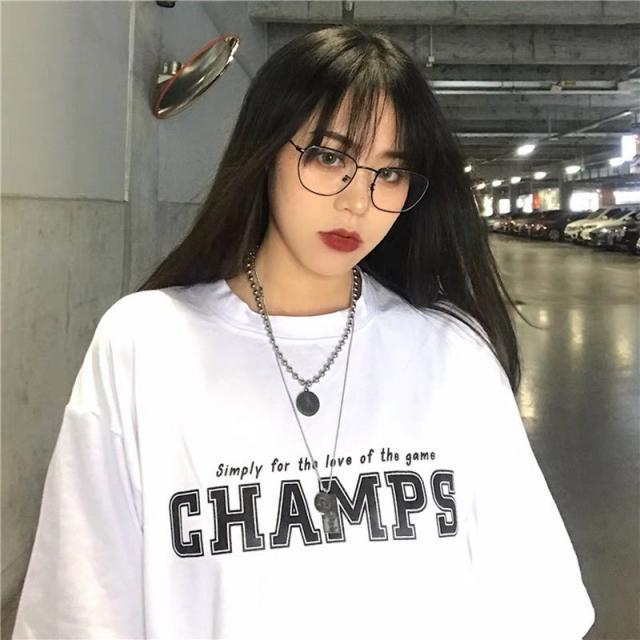Shirt: (8, 264, 602, 639)
